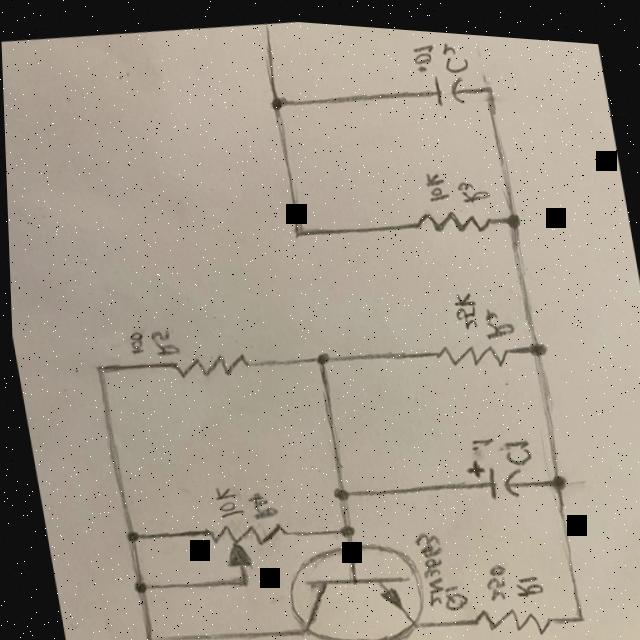capacitor: (460, 445, 523, 498), (429, 64, 468, 103)
junction: (80, 352, 117, 385), (281, 212, 317, 244), (118, 569, 154, 601), (112, 520, 145, 553), (304, 339, 338, 371), (261, 87, 295, 118), (520, 324, 551, 357), (322, 475, 356, 505), (541, 460, 571, 490), (499, 199, 529, 228), (327, 514, 357, 539), (478, 69, 505, 96), (225, 569, 254, 593), (131, 625, 167, 640), (566, 598, 590, 620)
resistor: (199, 509, 291, 575), (464, 592, 551, 639), (405, 193, 494, 237), (428, 327, 512, 371), (165, 347, 250, 382)
terminal: (257, 19, 279, 54)
text: (407, 524, 445, 605), (443, 282, 481, 326), (477, 296, 514, 334), (205, 481, 243, 518), (241, 485, 281, 520), (476, 555, 507, 598), (438, 32, 473, 70), (146, 323, 181, 359), (418, 162, 451, 199), (453, 168, 491, 199), (508, 564, 544, 596), (408, 34, 439, 70), (500, 428, 532, 461), (439, 575, 466, 610), (121, 325, 146, 357), (463, 425, 492, 449)
transistor: (273, 525, 428, 640)
